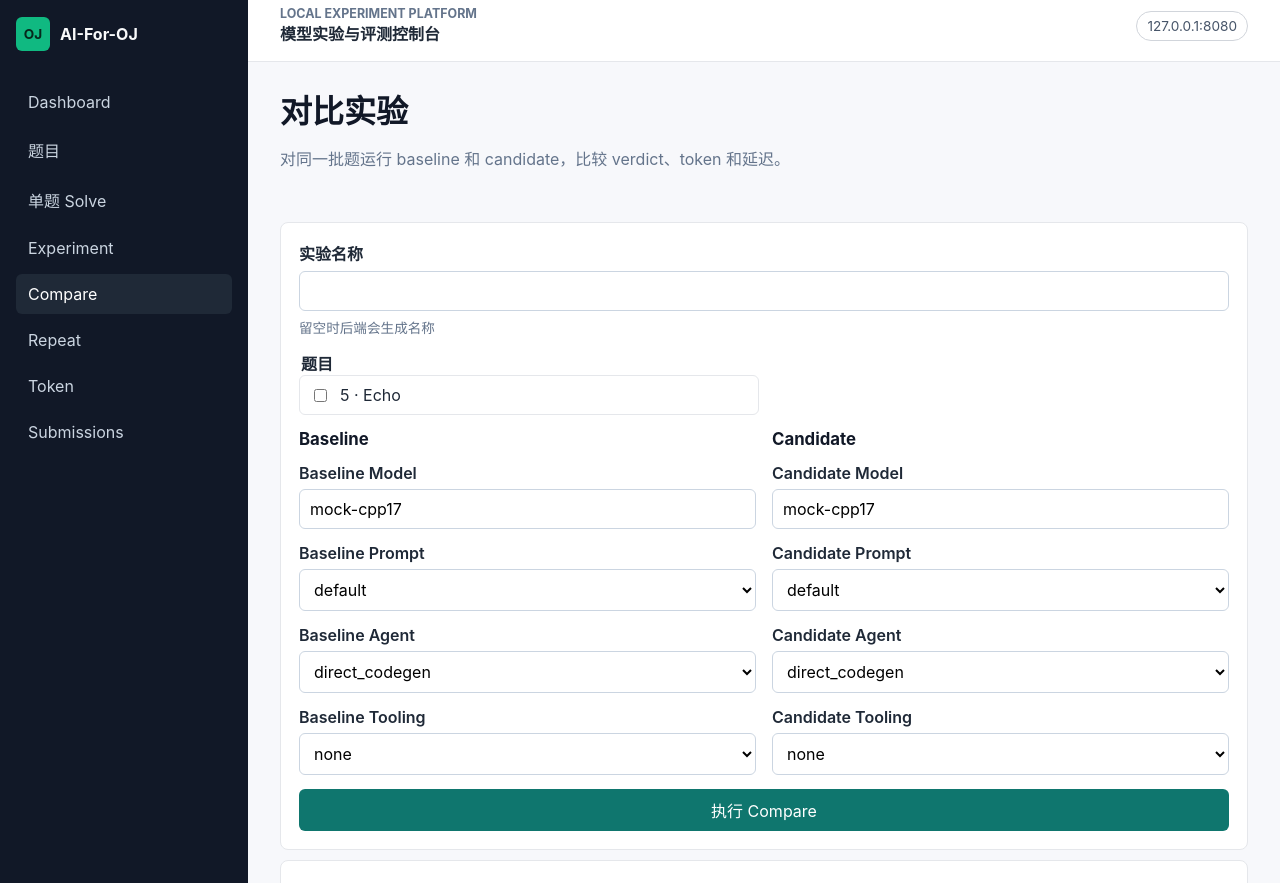
Test: experiment routes › runs a compare experiment and renders its summary
This screenshot has width=1280, height=883.
expect the heading "对比实验" is shown: met, box left=280, top=92, right=408, bottom=131
Click the checkbox labelled "5 · Echo" at (320, 395), box left=314, top=389, right=327, bottom=402
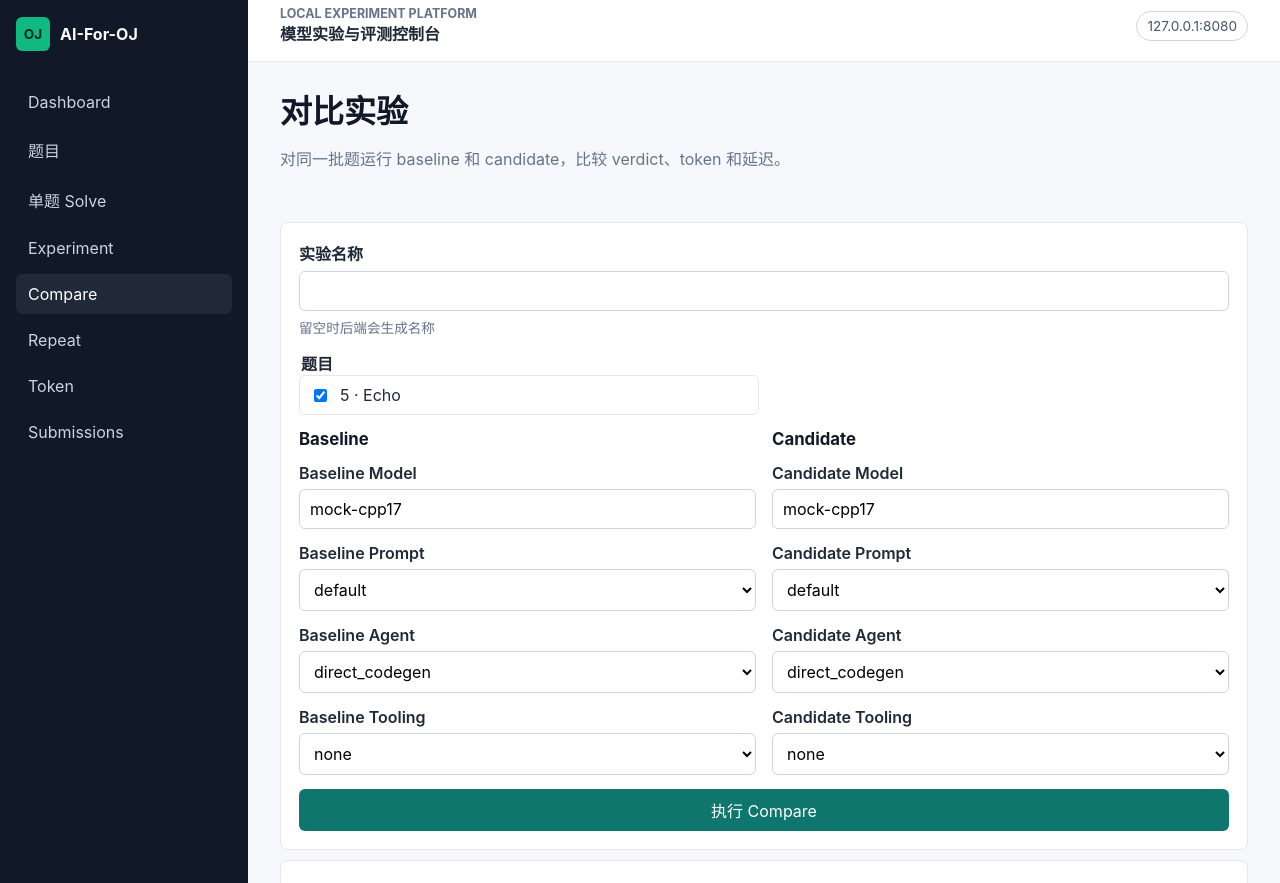
Select "strict_cpp17" in the dropdown labelled "Candidate Prompt" at (1000, 590), box left=772, top=569, right=1229, bottom=611
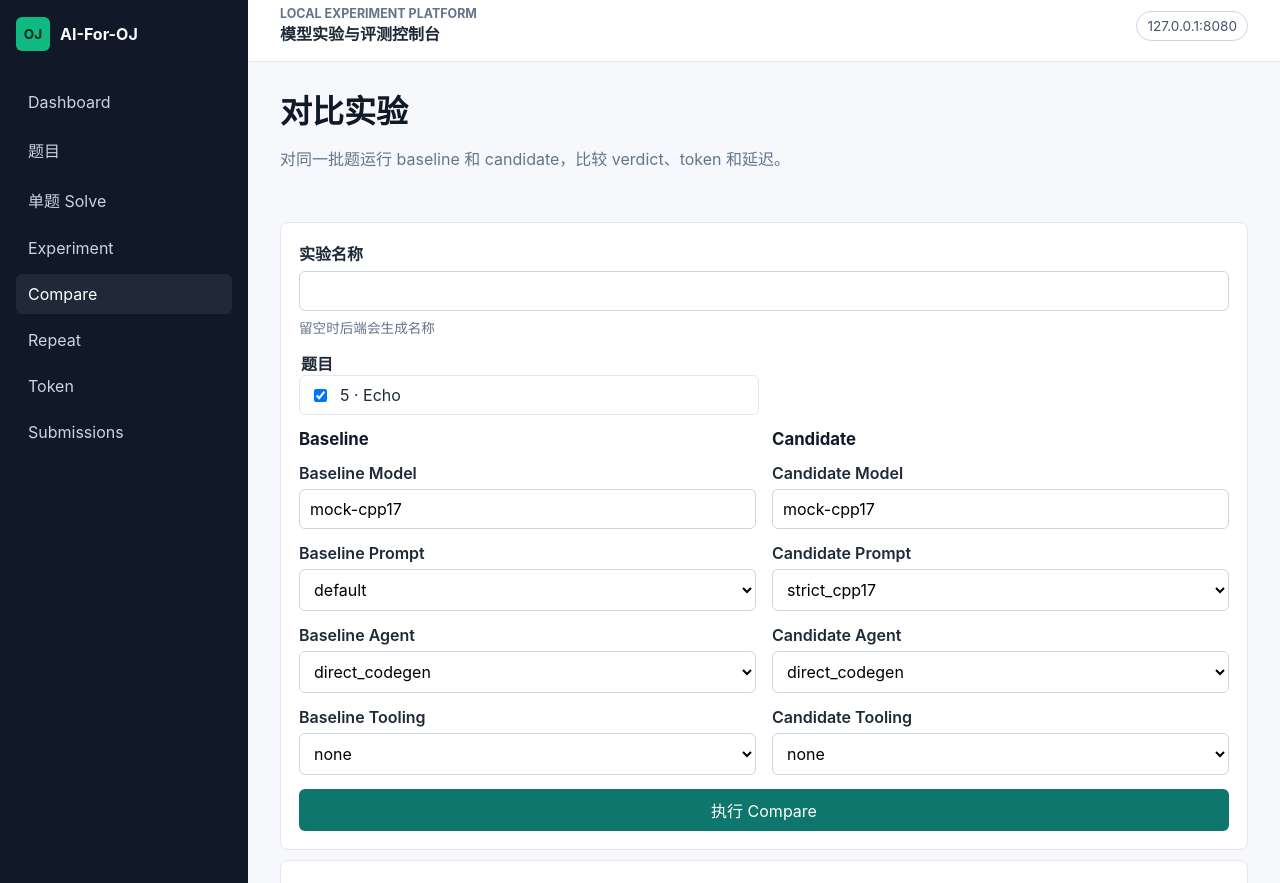
Click the button "执行 Compare" at (764, 810), box left=299, top=789, right=1229, bottom=831
(page scrolled)
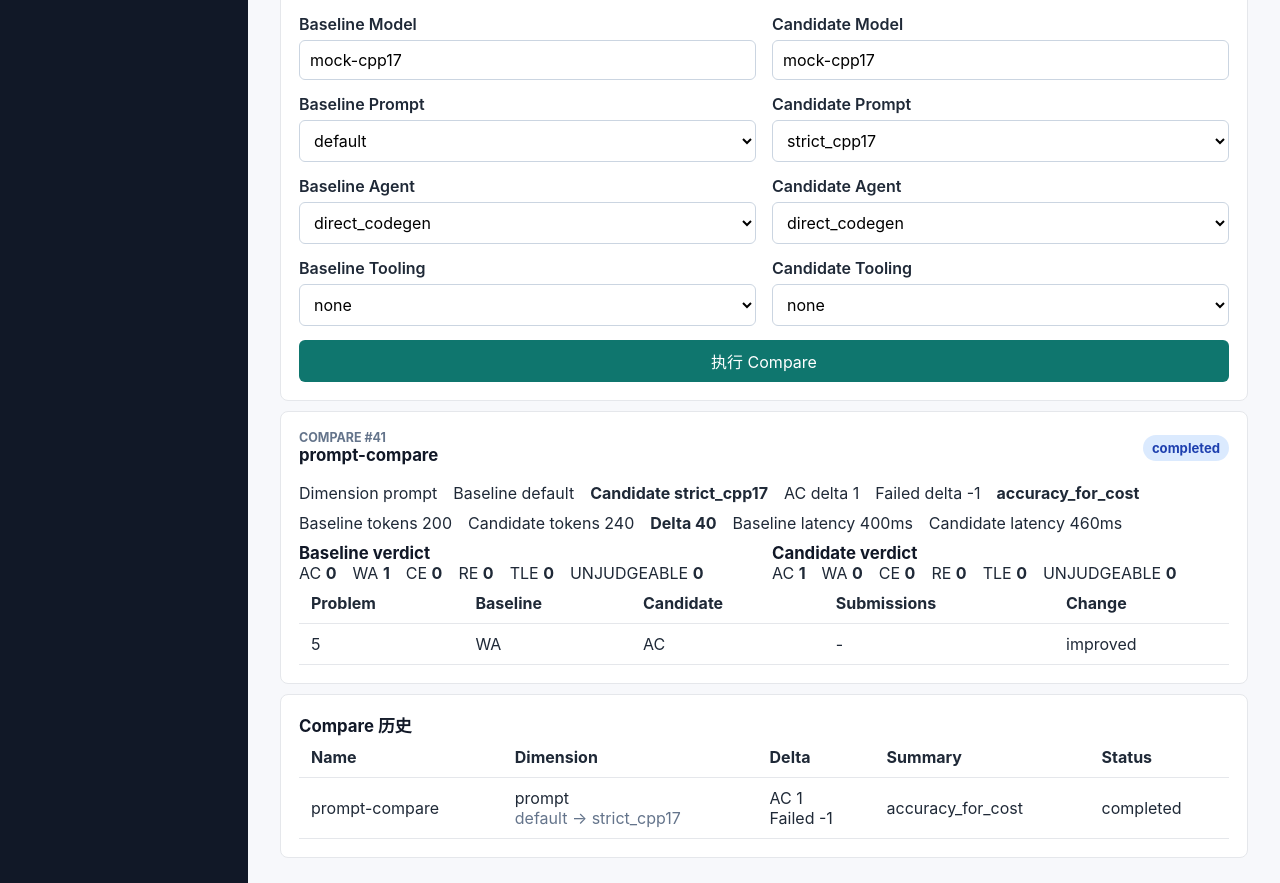
expect the text "accuracy_for_cost" is shown: met, box left=996, top=483, right=1139, bottom=503
expect the text "improved" is shown: met, box left=1054, top=624, right=1229, bottom=665
